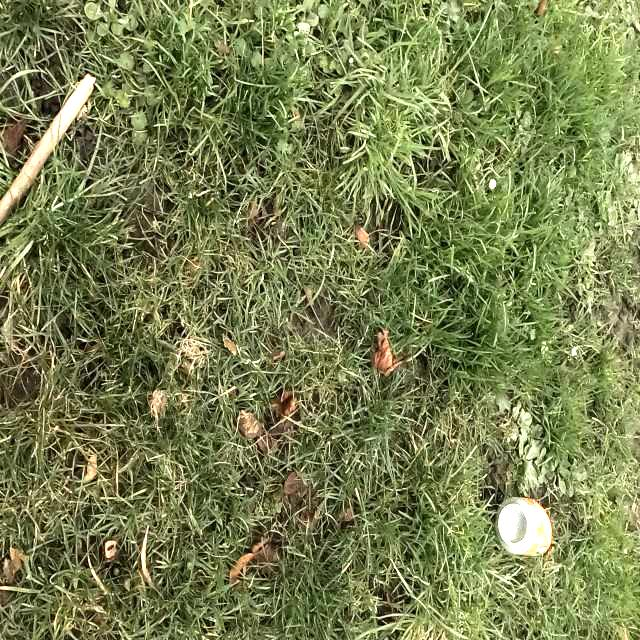Metal: (495, 498, 555, 556)
